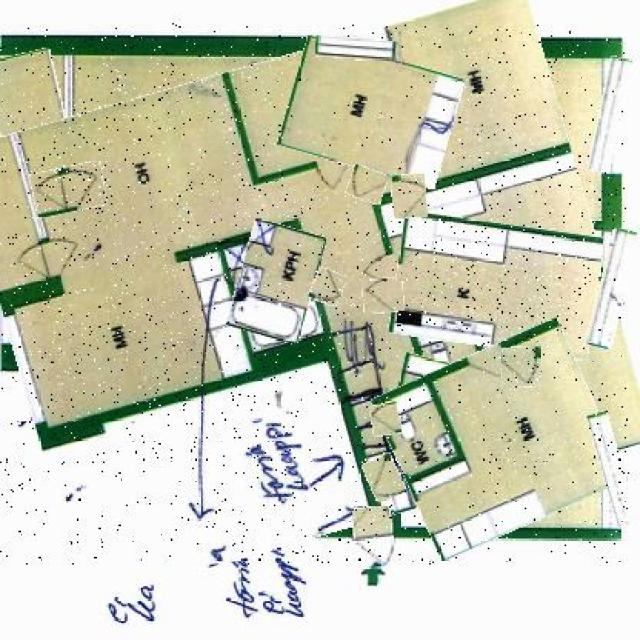door: (31, 163, 108, 214), (354, 508, 394, 569), (366, 455, 403, 500), (502, 348, 542, 388), (392, 176, 426, 218), (363, 278, 403, 312), (348, 168, 386, 202), (311, 269, 343, 305), (372, 403, 400, 437)
window: (592, 229, 632, 349), (594, 411, 629, 526), (594, 57, 628, 172), (316, 37, 396, 60)
zone: (0, 23, 626, 565), (384, 333, 614, 544), (392, 218, 600, 354), (285, 45, 460, 180), (0, 51, 74, 206), (234, 222, 320, 342), (392, 354, 454, 438)
